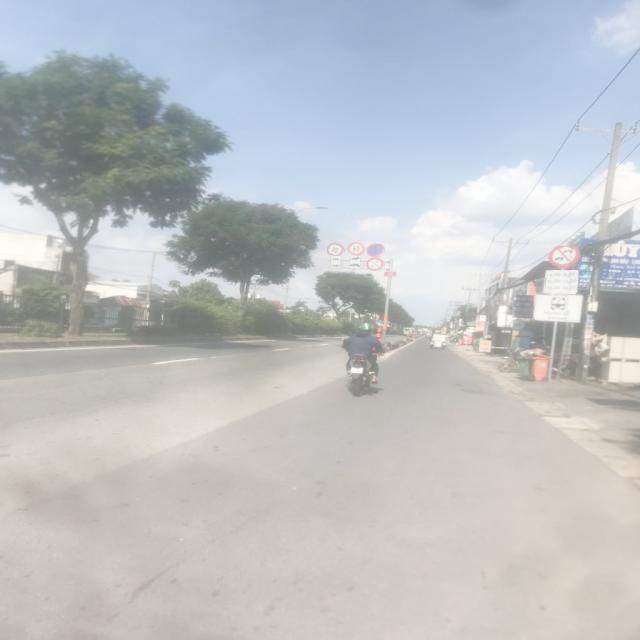107-cam-oto-khach-va-oto-tai: (548, 246, 580, 268)
127-toc-do-toi-da-60: (347, 242, 364, 255)
127-toc-do-toi-da-80: (326, 242, 344, 258)
